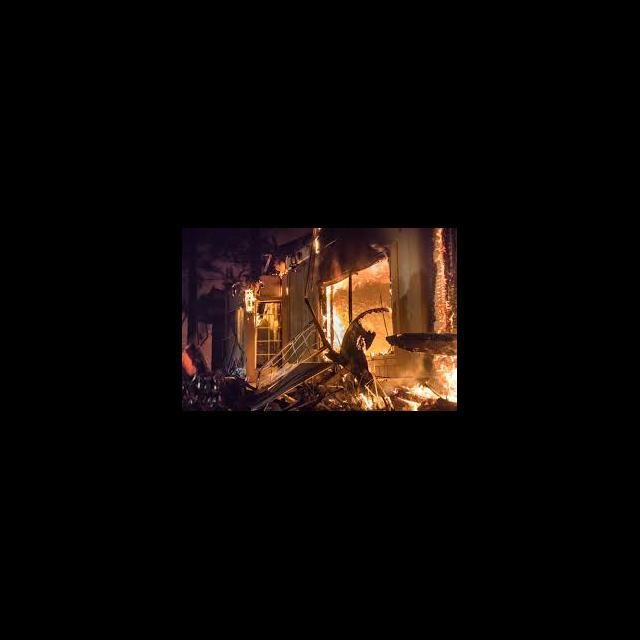Fire: (402, 354, 458, 402), (433, 232, 458, 334), (322, 280, 351, 349), (356, 394, 378, 411), (314, 228, 324, 258), (242, 288, 254, 312), (272, 260, 286, 278), (256, 316, 264, 326)
